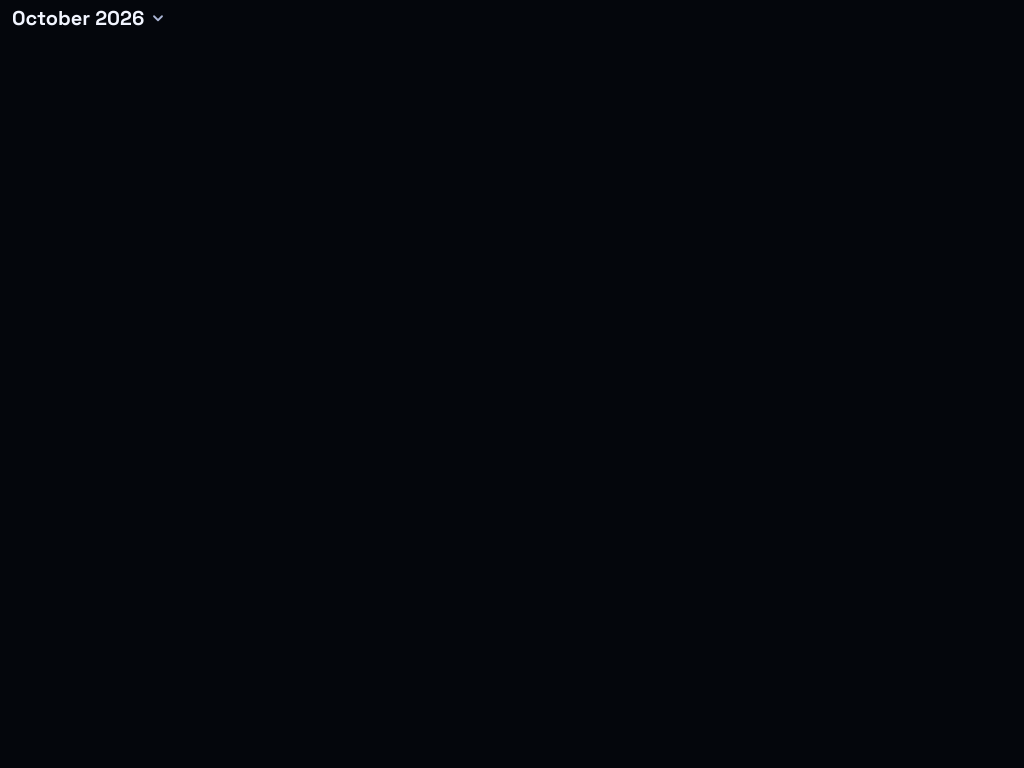
Test: MonthPicker (calendário de um mês) › Esc fecha só a escolha de ano
Click the button with aria-label "October 2026 — choose day" at (88, 18), box [0,0,176,36]
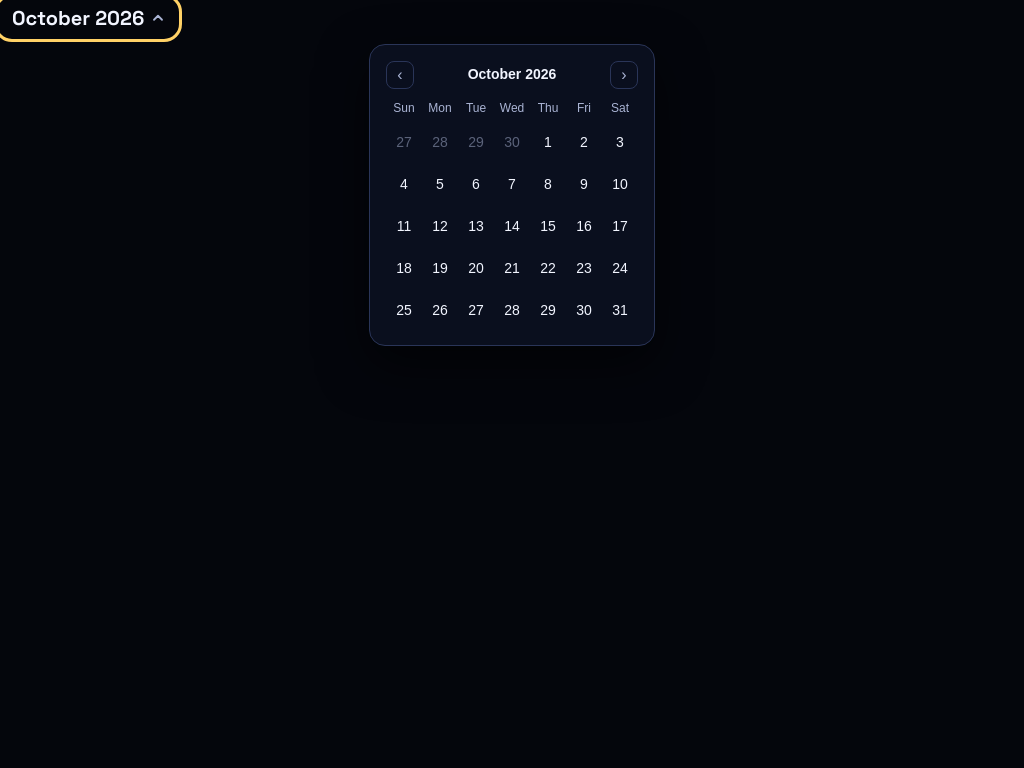
Click the 2nd button "October 2026" at (512, 74), box [460,61,564,87]
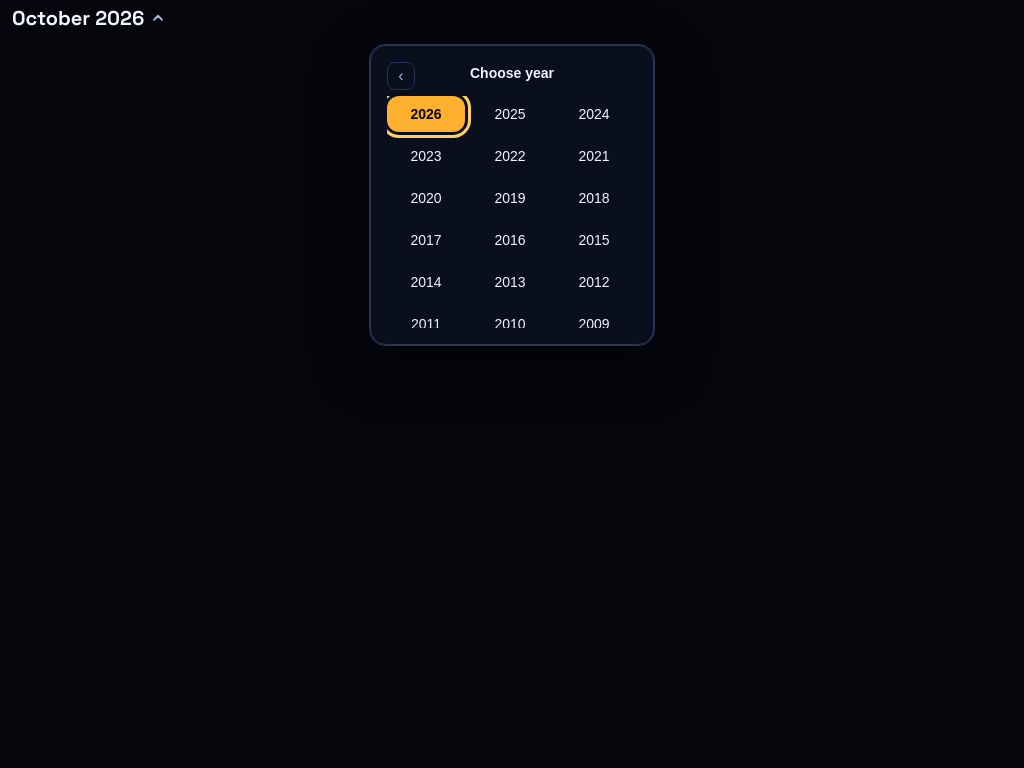
Press Escape
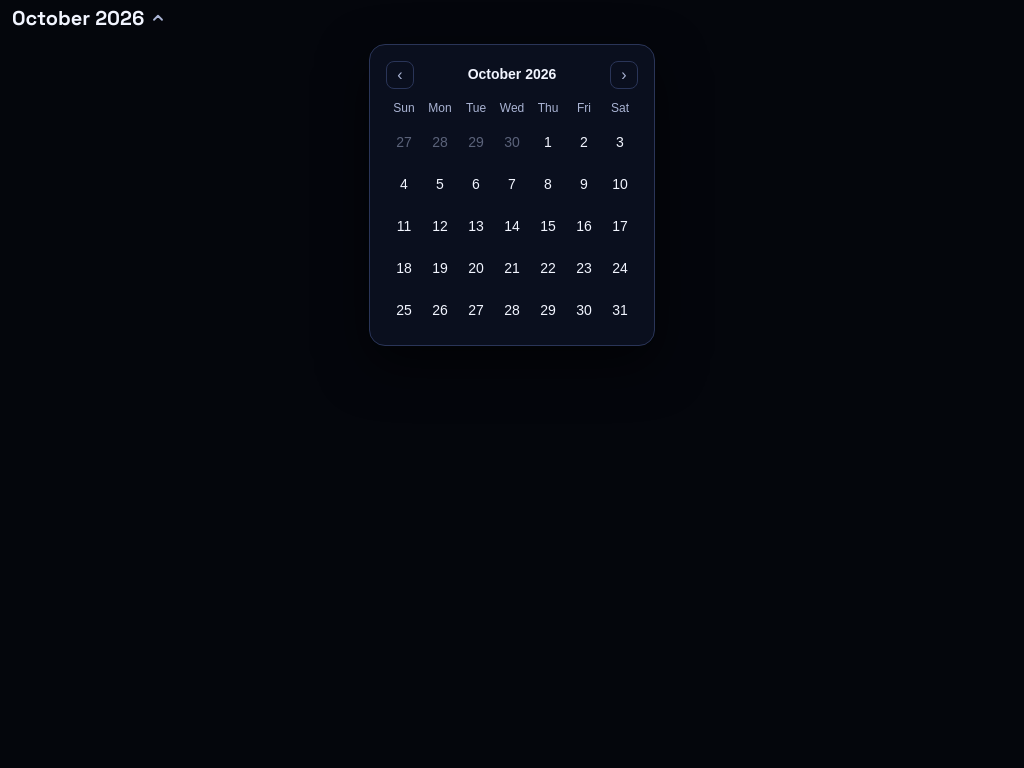
Expected: the dialog named "Choose day" is shown, [369,44,655,346]
Expected: the text "Choose year" is gone
